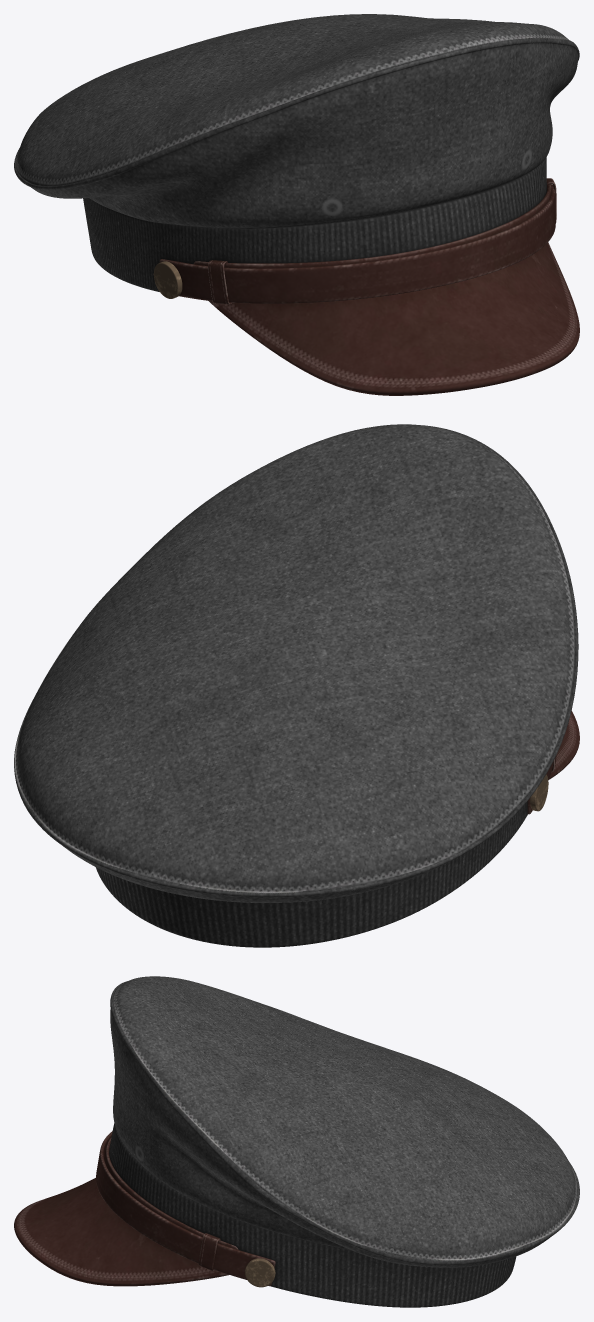
The model's file is military_hat.glb.
3 views of the same model, one above another, from view 1: azimuth 30°, elevation 25°; view 2: azimuth 150°, elevation 25°; view 3: azimuth 270°, elevation 25° (orthographic). The views are drawn at different scales.
Parts seen in each view (by area): view 1: Object_6, Object_2, Object_5, Object_3, Object_7; view 2: Object_6, Object_2; view 3: Object_6, Object_2, Object_5, Object_7, Object_3.
Part boxes in pixels (box(x1,y1,x2,y2)): Object_6: box(14, 14, 579, 291); Object_2: box(208, 242, 579, 395); Object_5: box(159, 184, 555, 303); Object_3: box(208, 178, 556, 304); Object_7: box(153, 261, 182, 298); Object_6: box(14, 424, 578, 947); Object_2: box(548, 711, 579, 779); Object_6: box(109, 976, 579, 1307); Object_2: box(14, 1178, 228, 1286); Object_5: box(96, 1131, 275, 1286); Object_7: box(245, 1258, 275, 1287); Object_3: box(198, 1233, 220, 1270).
Bounding box in the file's own units: 139 × 90.51 × 175.
1 material, 1 textured.
